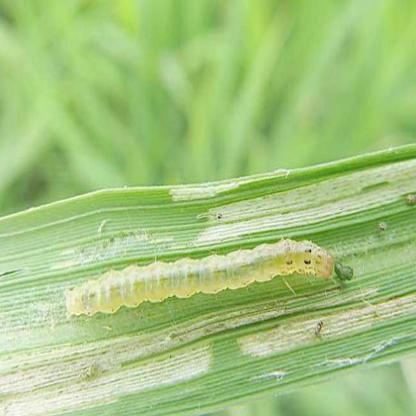leaf-folder: (56, 236, 356, 328)
